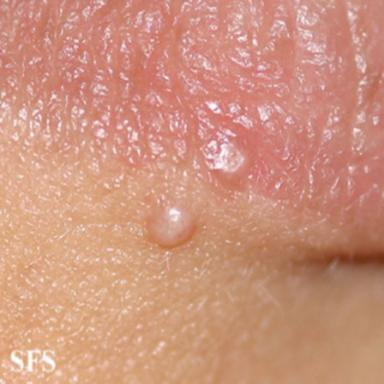Molluscum-Contagiosum: (147, 205, 197, 248), (203, 137, 248, 180)
